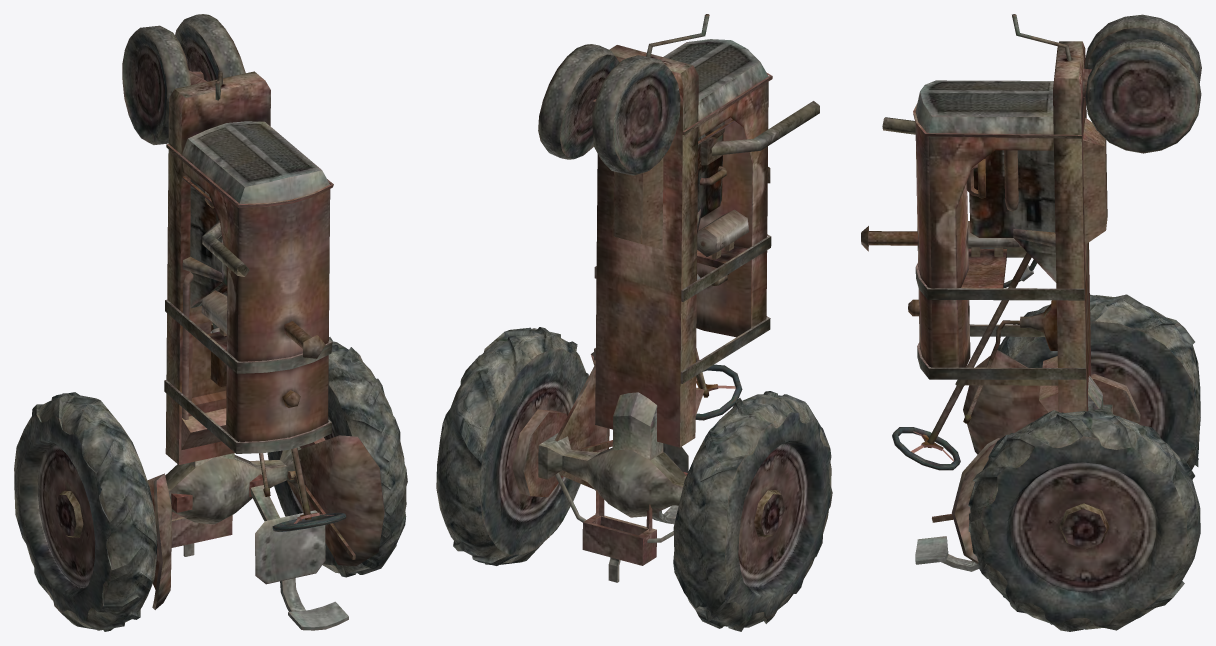
The model's file is prop_tractor.glb.
3 views of the same model, side by side, from view 1: azimuth 30°, elevation 25°; view 2: azimuth 150°, elevation 25°; view 3: azimuth 270°, elevation 25° (orthographic). The views are drawn at different scales.
Size of the model in its own units: 95.91 by 166 by 94.87.
Materials: 1 (1 with a texture image).
